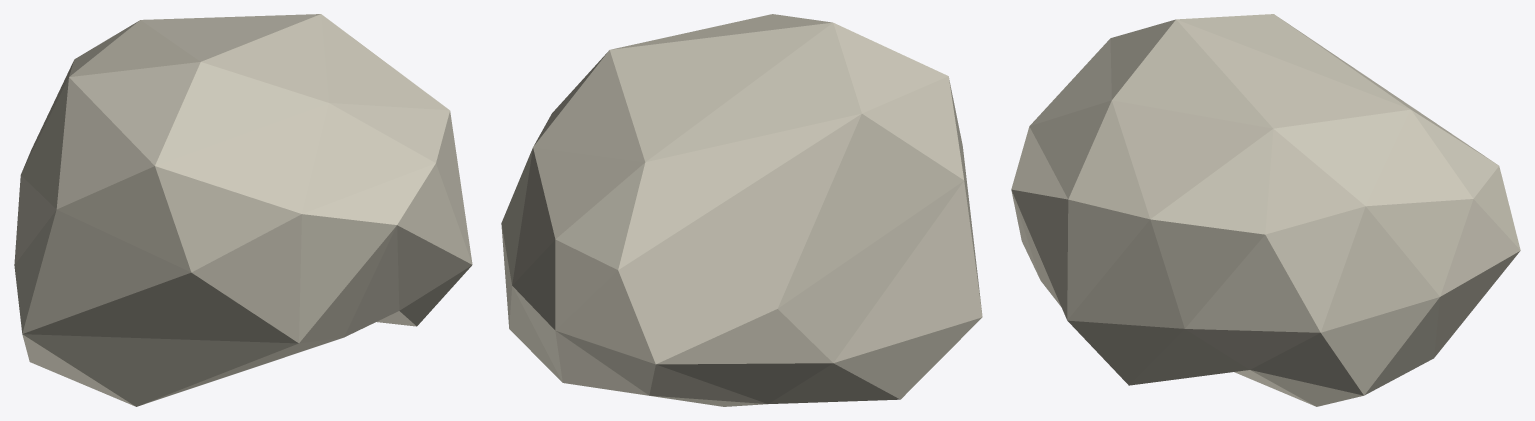
File: Rock_01.fbx
3 views of the same model, side by side, from view 1: azimuth 30°, elevation 25°; view 2: azimuth 150°, elevation 25°; view 3: azimuth 270°, elevation 25° (orthographic). The views are drawn at different scales.
Visible parts, largest first — view 1: Rock_01a; view 2: Rock_01a; view 3: Rock_01a.
Part boxes in pixels (x1=…): Rock_01a: x1=14, y1=14, x2=472, y2=406; Rock_01a: x1=501, y1=14, x2=982, y2=406; Rock_01a: x1=1011, y1=14, x2=1520, y2=406.
Bounding box in the file's own units: 126 × 93.91 × 141.
